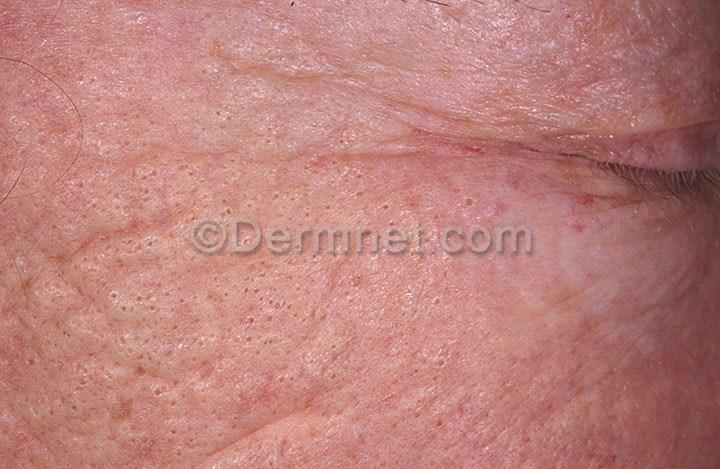Dry-Skin: (505, 86, 720, 269), (298, 45, 497, 160), (583, 203, 718, 342)
